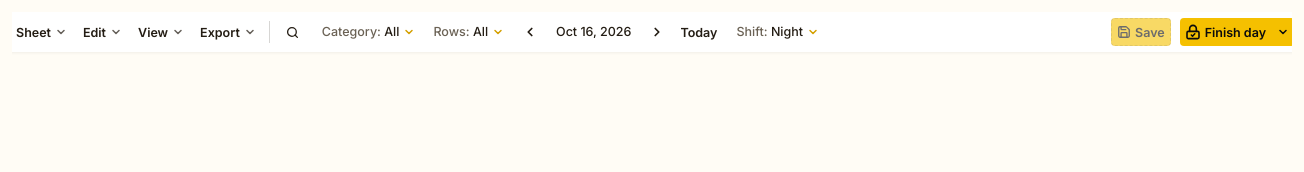
Test: Finish › is a split button: Finish day, with Finish through a date in the chevron
Check: the button "Finish day" is shown, box [1180, 18, 1271, 46]
Click the button named "Finish day: more options": click(1282, 32) [1271, 18, 1292, 46]
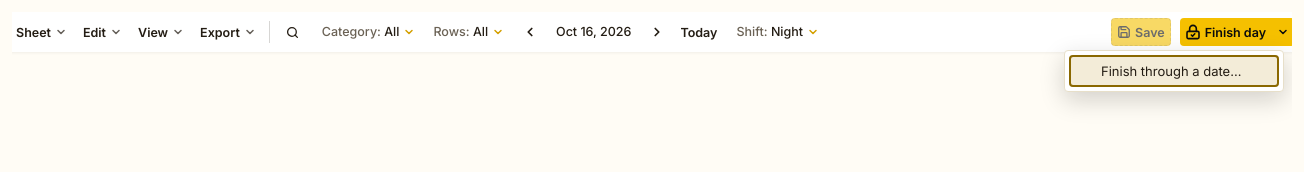
Check: the menu item "Finish through a date…" is shown, box [1069, 55, 1279, 87]
